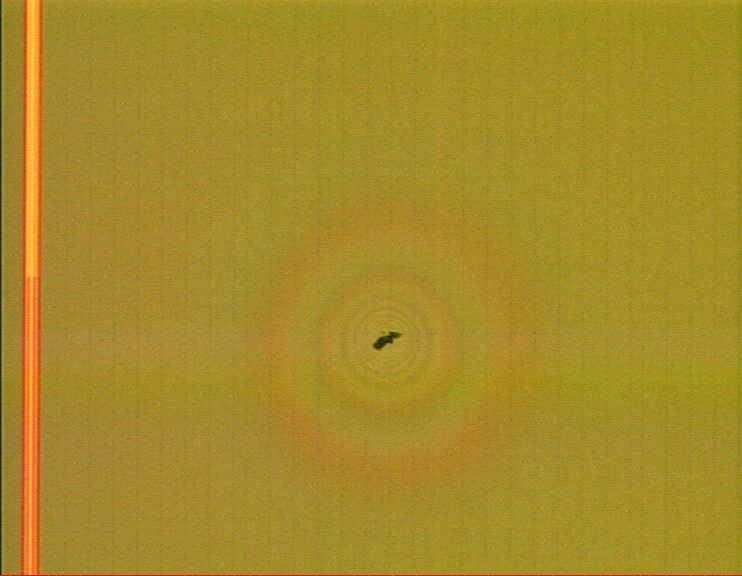PIQ PARTICLE: (368, 324, 408, 360)
